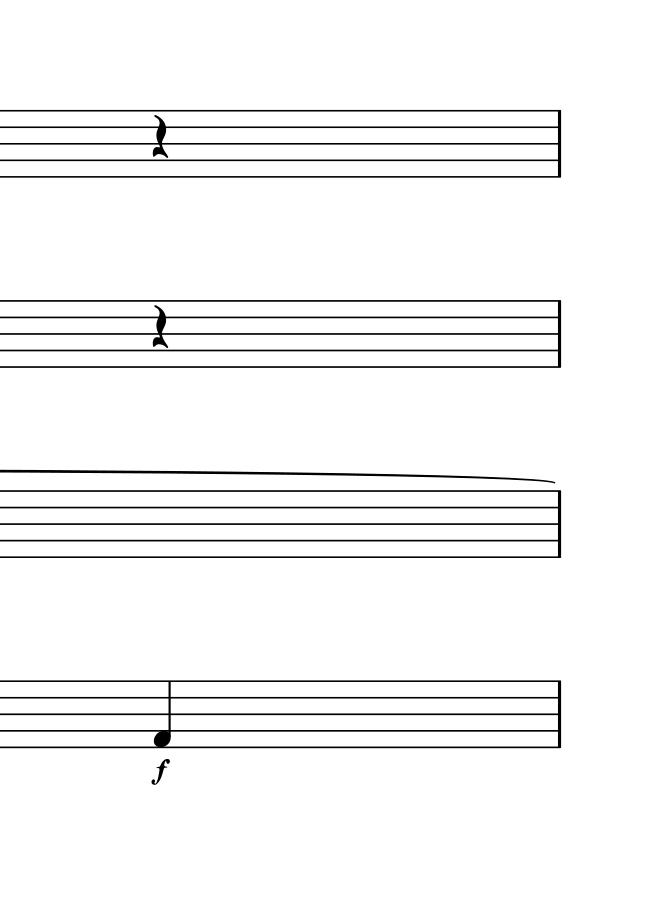4_1: (150, 680, 175, 748)
Rests4: (150, 304, 171, 350), (150, 114, 170, 161)
Single_barline: (549, 680, 567, 748), (550, 299, 567, 368), (549, 110, 566, 178), (551, 493, 566, 558)
f: (147, 759, 174, 784)
